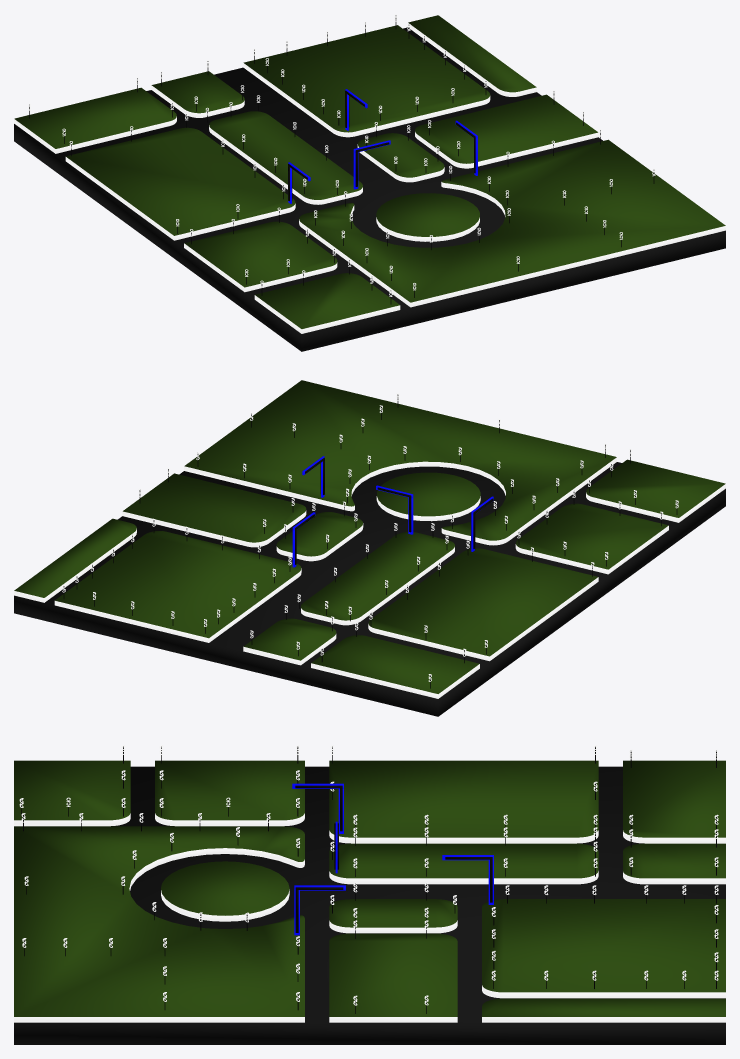
File: foundation.glb
The picture shows the model from 3 angles, top to bottom: view 1: azimuth 30°, elevation 25°; view 2: azimuth 150°, elevation 25°; view 3: azimuth 270°, elevation 25°; orthographic projection. The views are drawn at different scales.
Parts seen in each view (by area): view 1: Ground, Ground2, Street lights, Traffic Lights; view 2: Ground, Ground2, Street lights, Traffic Lights; view 3: Ground, Ground2, Street lights, Traffic Lights.
Boxes of the visible parts, x1,y1,x2,y2 form: Ground: (14, 15, 725, 333); Ground2: (14, 27, 725, 351); Street lights: (28, 14, 655, 304); Traffic Lights: (288, 89, 477, 203); Ground: (14, 380, 725, 698); Ground2: (14, 462, 725, 716); Street lights: (62, 393, 678, 688); Traffic Lights: (292, 456, 493, 567); Ground: (14, 760, 725, 1022); Ground2: (14, 766, 725, 1044); Street lights: (19, 745, 718, 1013); Traffic Lights: (292, 783, 493, 935).
Size of the model in its own units: 350 by 49.22 by 411.
